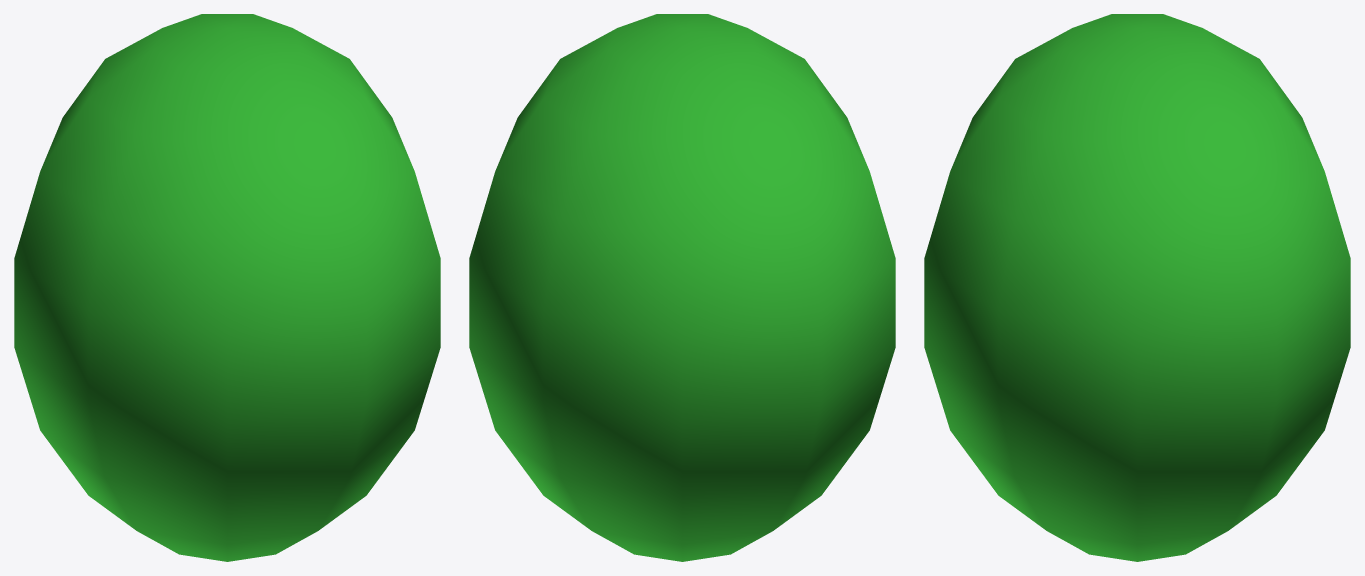
File: sprou_stage1.obj
3 renders of one model, left to right at view 1: azimuth 30°, elevation 25°; view 2: azimuth 150°, elevation 25°; view 3: azimuth 270°, elevation 25°, orthographic.
Size of the model in its own units: 1.24 by 1.69 by 1.26.
